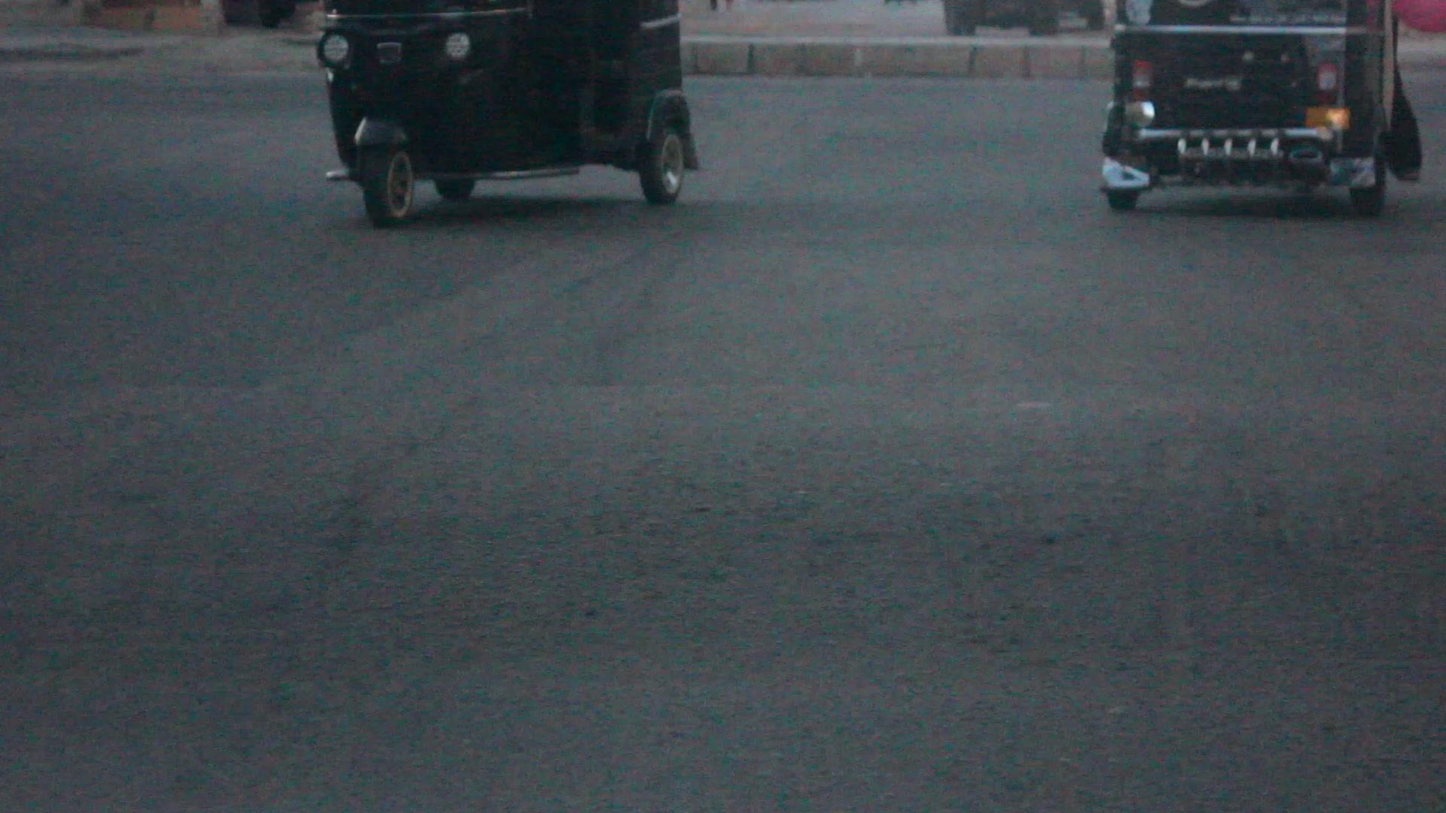Bump: (0, 376, 1445, 709)
